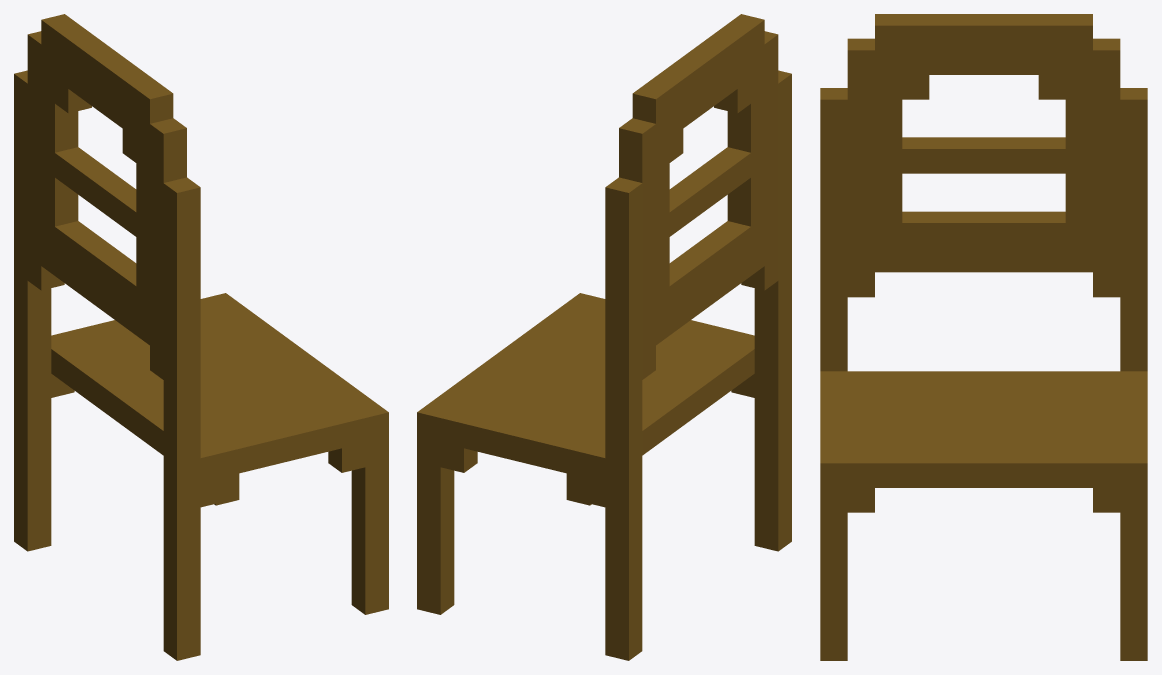
The model's file is Reschair_2.obj.
3 views of the same model, side by side, from view 1: azimuth 30°, elevation 25°; view 2: azimuth 150°, elevation 25°; view 3: azimuth 270°, elevation 25° (orthographic).
Bounding box in the file's own units: 0.9 × 2.2 × 1.2.
